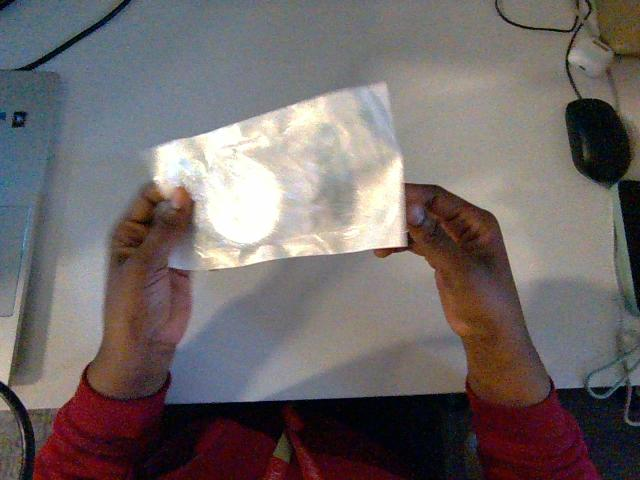gallipot: (145, 83, 406, 269)
